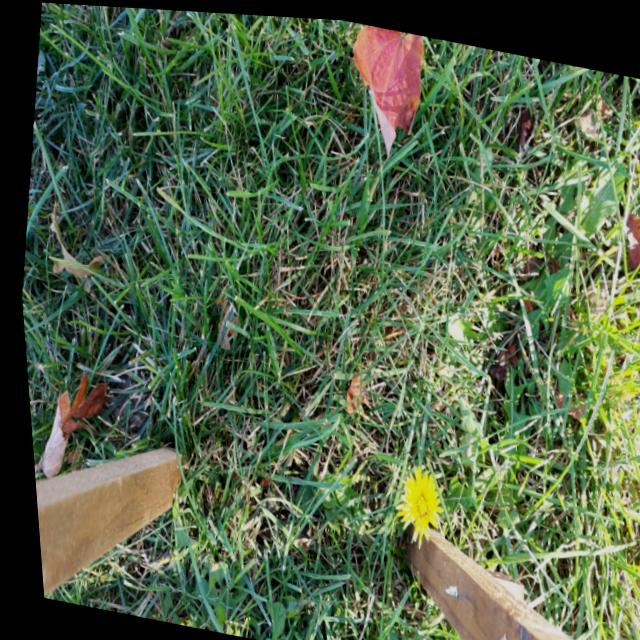flower: (388, 458, 442, 539)
